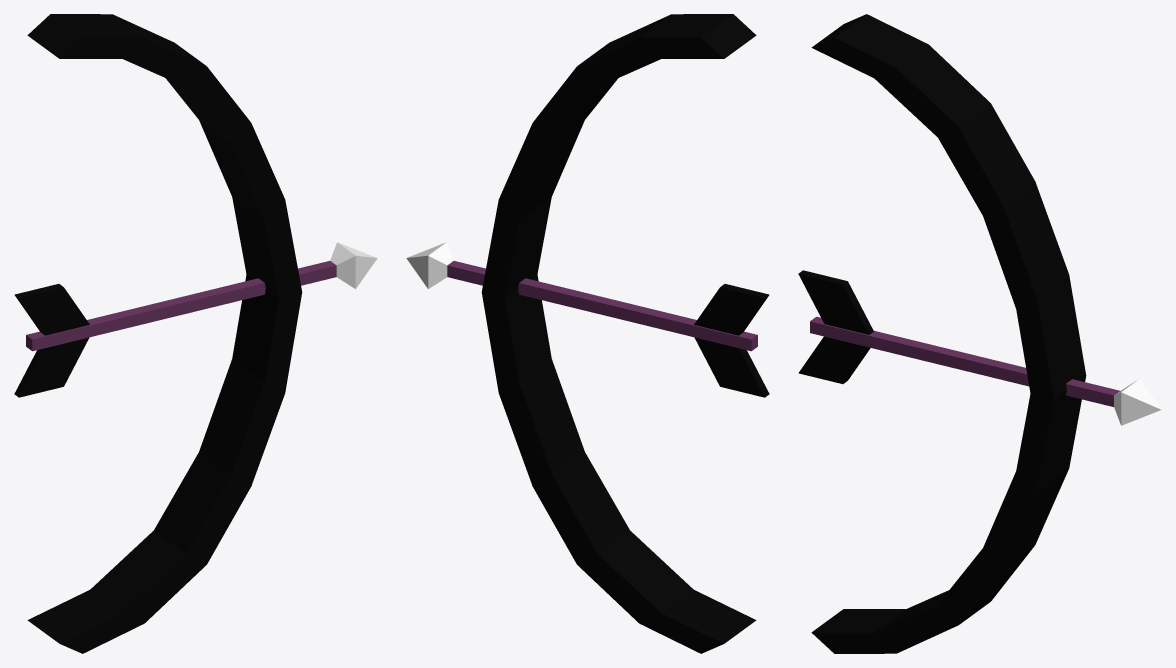
The model's file is BlackArrowArc.fbx.
3 views of the same model, side by side, from view 1: azimuth 30°, elevation 25°; view 2: azimuth 150°, elevation 25°; view 3: azimuth 330°, elevation 25° (orthographic).
Visible parts, largest first — view 1: Plane, Cube.005; view 2: Plane, Cube.005; view 3: Plane, Cube.005.
Boxes of the visible parts, <box> form: Plane: <box>27,14,302,653</box>; Cube.005: <box>14,242,377,397</box>; Plane: <box>481,14,756,653</box>; Cube.005: <box>406,242,769,397</box>; Plane: <box>811,14,1086,653</box>; Cube.005: <box>798,270,1161,425</box>.
Size of the model in its own units: 64.6 by 105 by 10.
